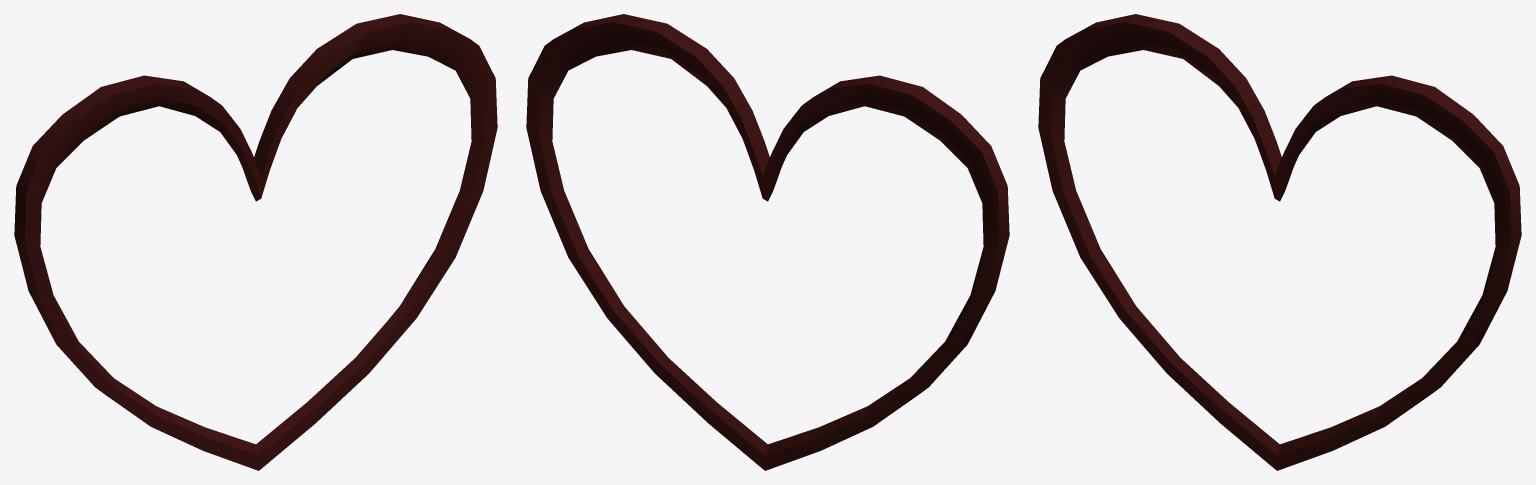
File: Heart_Outline.fbx
The picture shows the model from 3 angles, left to right: view 1: azimuth 30°, elevation 25°; view 2: azimuth 150°, elevation 25°; view 3: azimuth 330°, elevation 25°; orthographic projection.
Parts seen in each view (by area): view 1: Heart_Outline; view 2: Heart_Outline; view 3: Heart_Outline.
Part boxes in pixels (bbox=[...]): Heart_Outline: bbox=[14, 14, 497, 470]; Heart_Outline: bbox=[526, 14, 1009, 470]; Heart_Outline: bbox=[1038, 14, 1521, 470].
Size of the model in its own units: 148 by 124 by 6.07.
